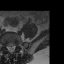CCS_normal: (10, 43, 12, 53)
LFS_stenosis: (15, 42, 17, 49)
LLS_normal: (12, 43, 15, 52)
RFS_stenosis: (4, 42, 7, 50)
RLS_normal: (7, 43, 10, 53)
